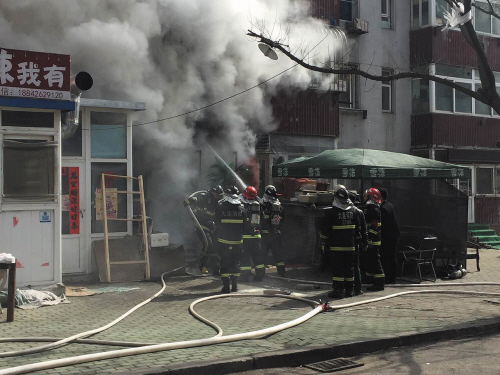smoke: (86, 6, 319, 167)
